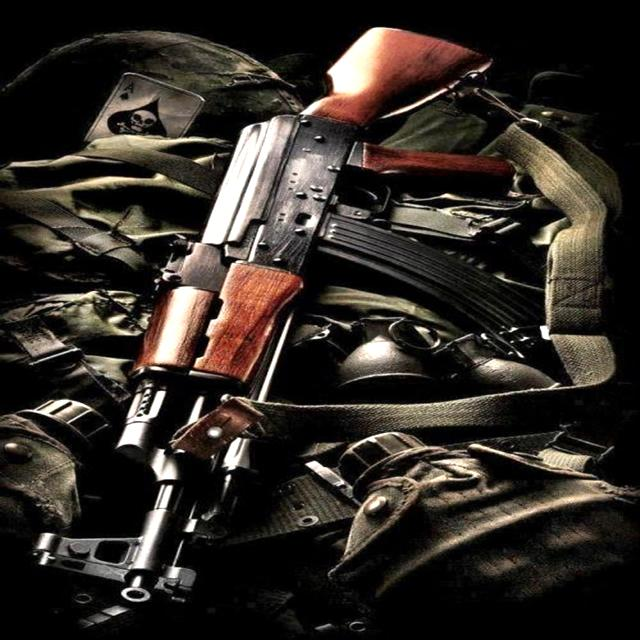ak: (75, 27, 583, 618)
